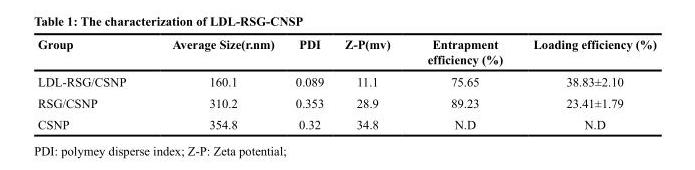table: (37, 36, 655, 131)
table column: (517, 36, 655, 131), (148, 36, 284, 131), (37, 36, 148, 131), (408, 36, 517, 131), (333, 36, 408, 131), (284, 36, 333, 131)
table column header: (37, 36, 655, 70)
table row: (37, 36, 655, 70), (37, 91, 655, 113), (37, 70, 655, 91), (37, 113, 655, 131)
